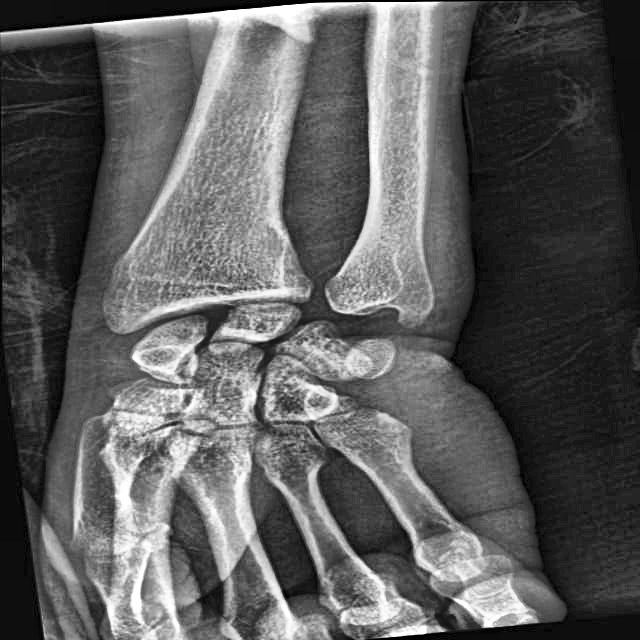Linear: (107, 516, 192, 636)
